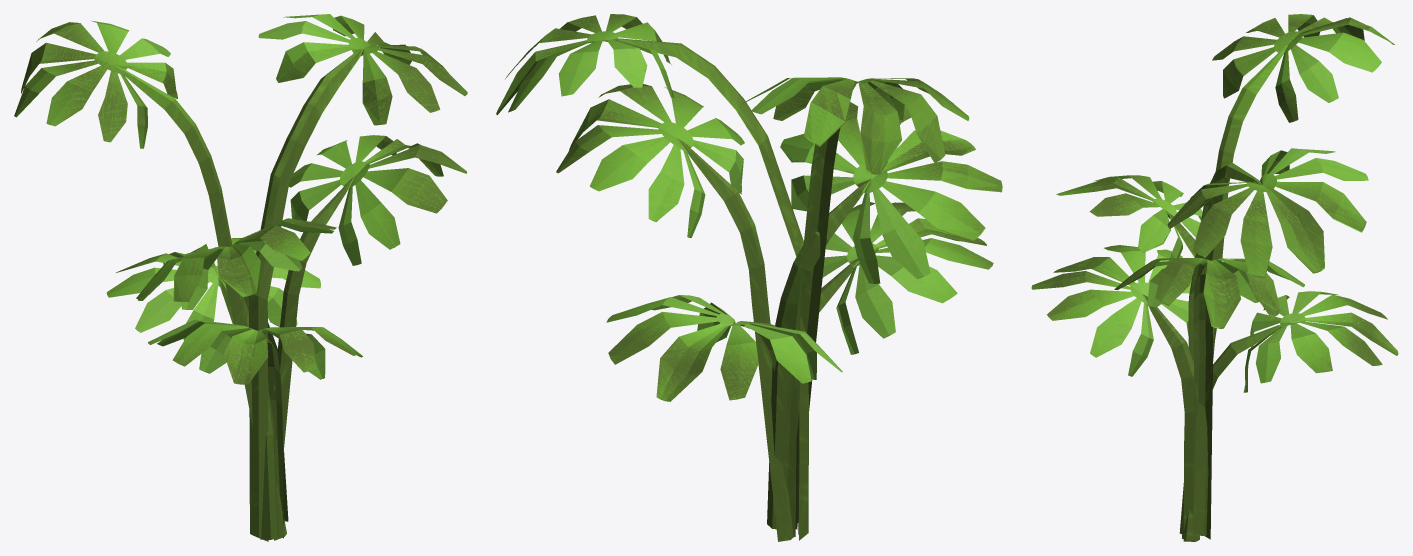
File: StrawLeaveGrass.FBX
3 views of the same model, side by side, from view 1: azimuth 30°, elevation 25°; view 2: azimuth 150°, elevation 25°; view 3: azimuth 270°, elevation 25° (orthographic). The views are drawn at different scales.
Parts seen in each view (by area): view 1: StawLeaveGrass; view 2: StawLeaveGrass; view 3: StawLeaveGrass.
Boxes of the visible parts, x1,y1,x2,y2 form: StawLeaveGrass: (14, 14, 467, 541); StawLeaveGrass: (496, 14, 1002, 541); StawLeaveGrass: (1031, 14, 1398, 541).
Size of the model in its own units: 4.37 by 3.52 by 4.9.
